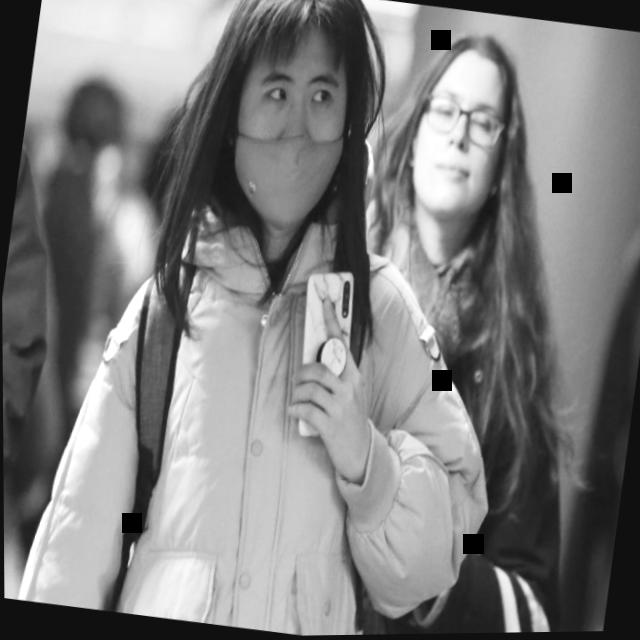Mask: (182, 0, 400, 249)
NO-Mask: (382, 17, 551, 250)
